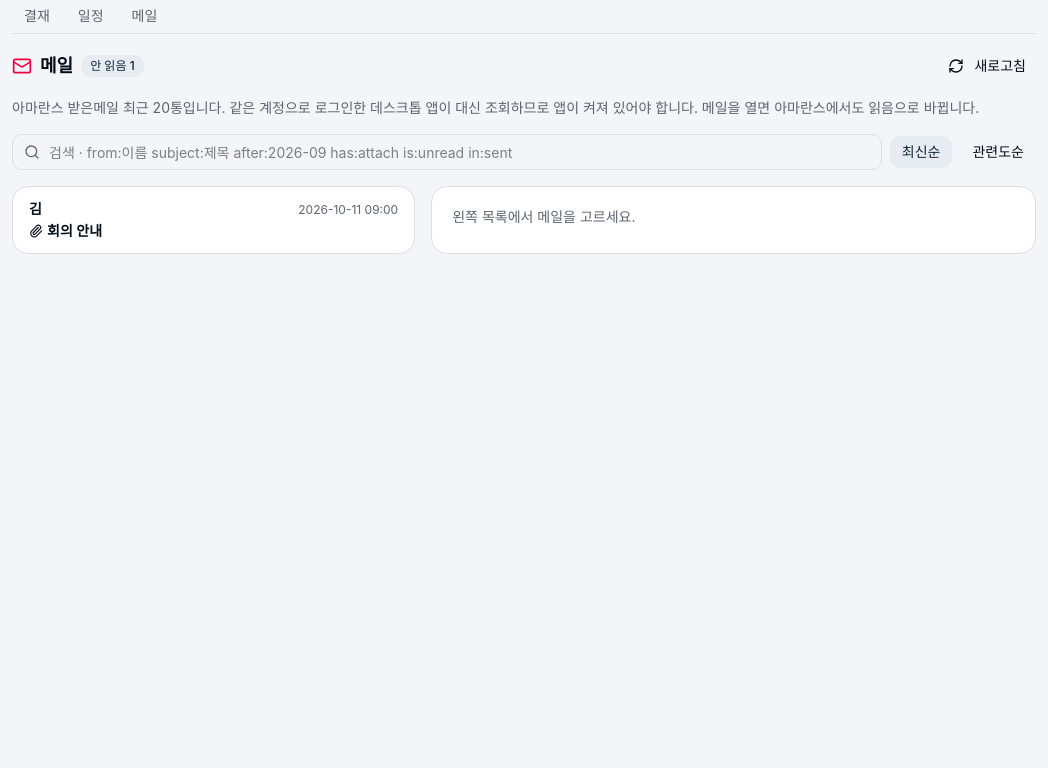
Test case: 메일 페이지 › 목록 → 본문 열기(읽음 반영) → 안 읽음으로 되돌리기
This screenshot has width=1048, height=768.
Click the button "김 2026-10-11 09:00 회의 안내" at (348, 210), box [13,187,414,253]
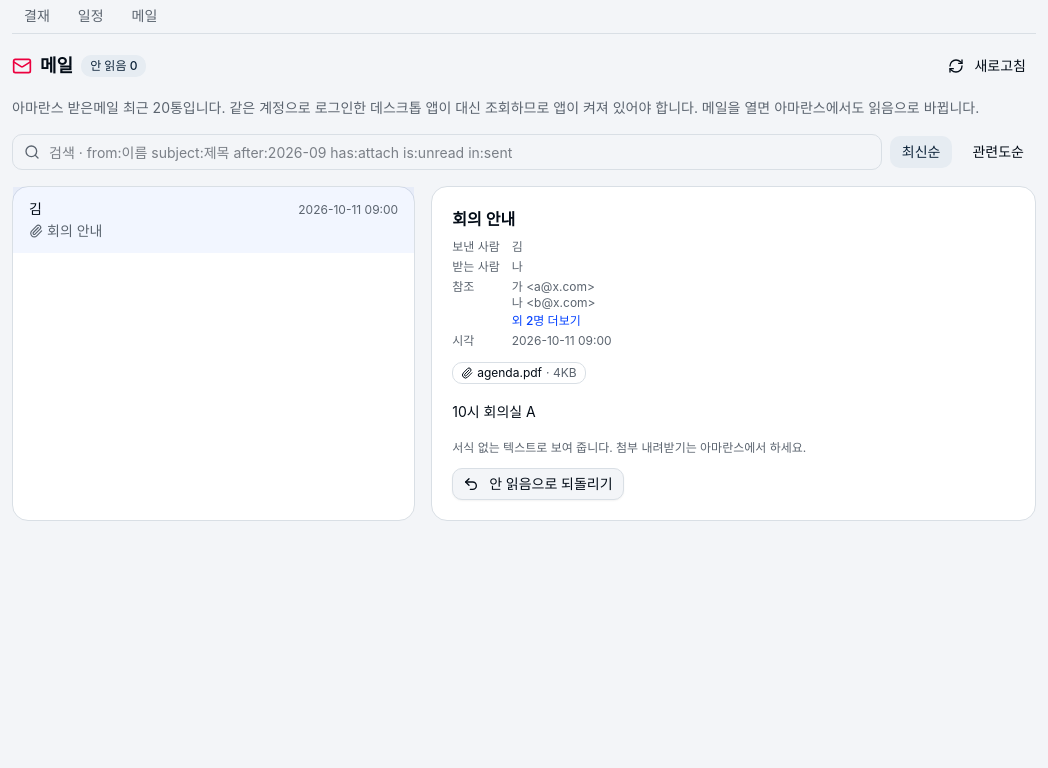
Expected: the text "마 <d@x.com>" is not shown
Expected: the text "10시 회의실 A" is shown, [452,403,536,420]
Expected: the text "agenda.pdf" is shown, [477,365,542,380]
Click the button "외 2명 더보기" at (546, 321), box [512,313,581,329]
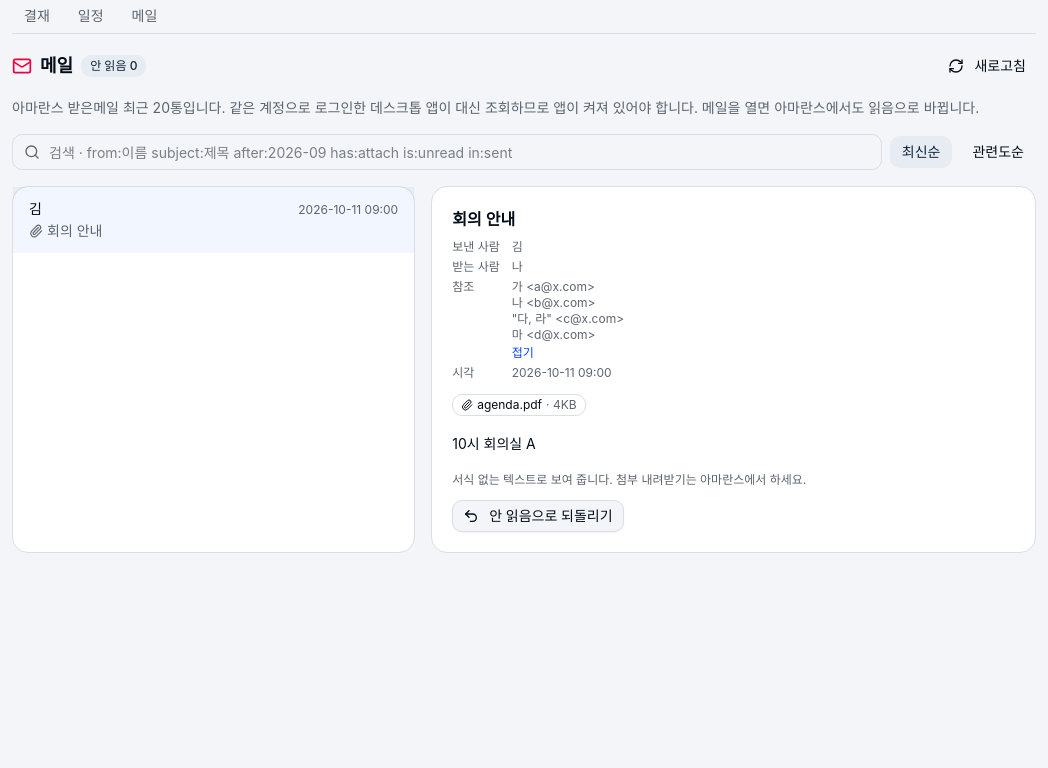
Expected: the text "안 읽음 0" is shown, [81,55,146,77]
Expected: the text "마 <d@x.com>" is shown, [512,327,596,342]
Expected: the button "접기" is shown, [512,345,534,361]
Click the button "안 읽음으로 되돌리기" at (538, 516), box [452,500,624,532]
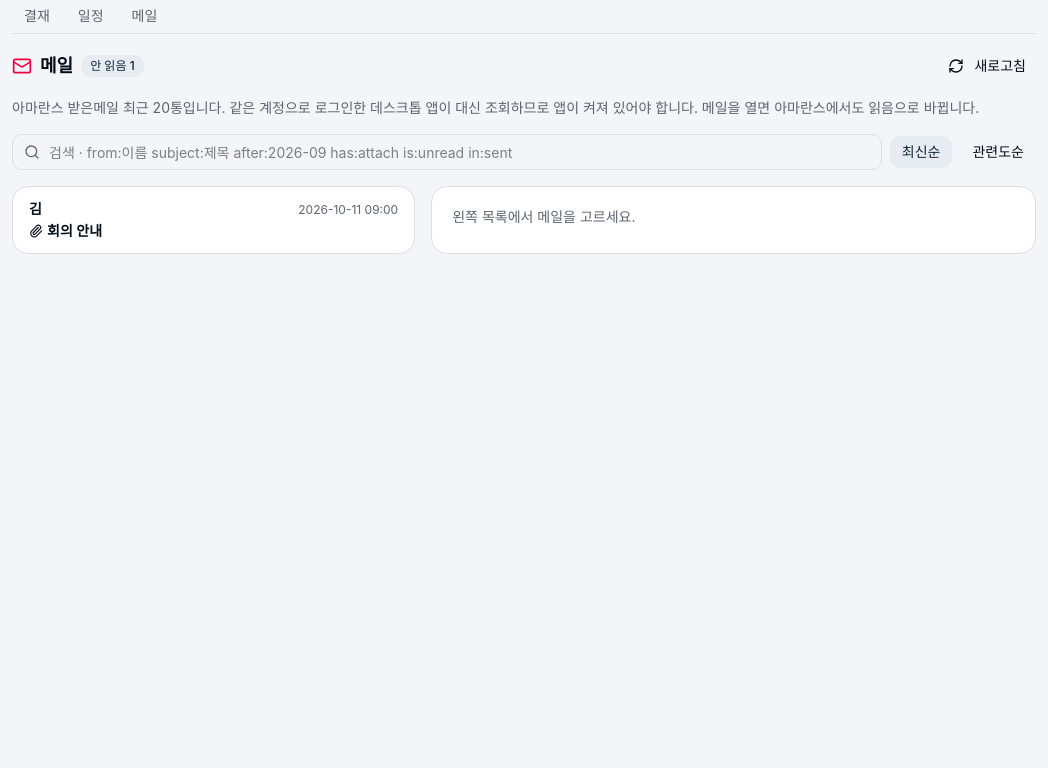
Expected: the text "안 읽음 1" is shown, [81,55,144,77]
Expected: the text "10시 회의실 A" is gone
